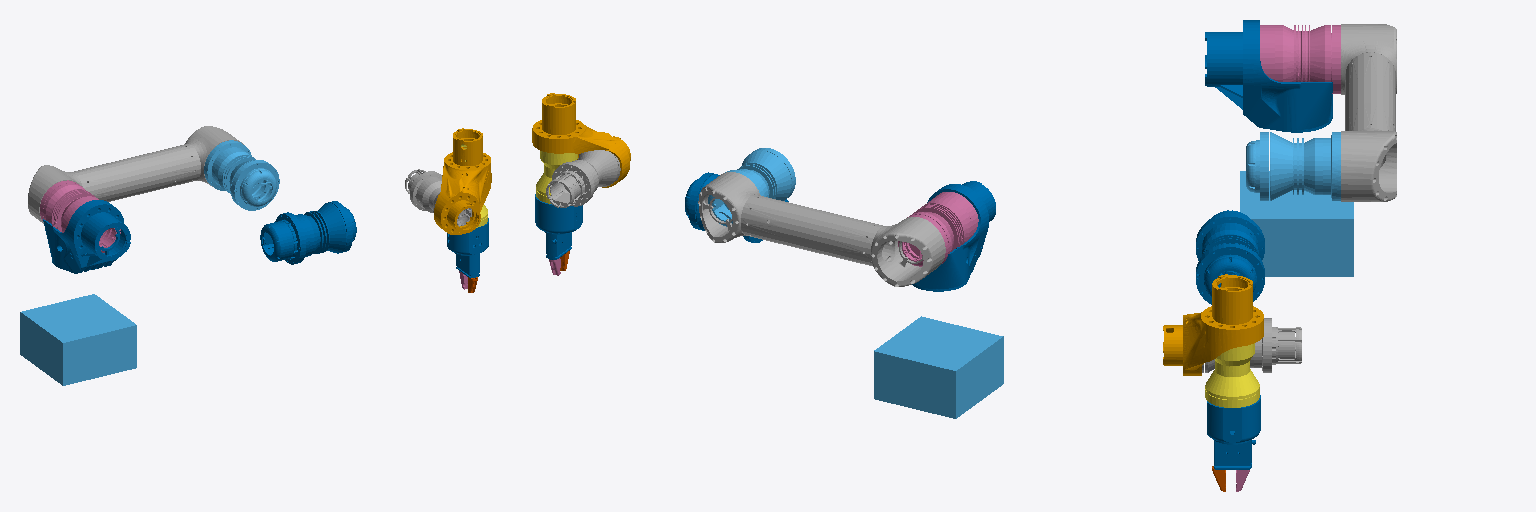
--- Facts derived from the render (not from the file) ---
3 views of the same robot in one strip: view 1: azimuth 30°, elevation 25°; view 2: azimuth 150°, elevation 25°; view 3: azimuth 270°, elevation 25° (orthographic).
Robot: modrob1 — 23 links, 22 joints (6 revolute, 2 prismatic, 14 fixed); root link world; default pose: joints at zero except 1 at the middle of their limits (hand_to_finger2 = 0.035).
Links seen in each view (by area): view 1: part0, link2, link5, proximal_link_of_joint3, link1, proximal_link_of_joint2, proximal_link_of_joint1, hand, proximal_link_of_joint4; view 2: link2, part0, link5, link1, proximal_link_of_joint4, proximal_link_of_joint1, proximal_link_of_joint2, hand, proximal_link_of_joint3, proximal_link_of_joint5; view 3: link2, part0, link1, link5, proximal_link_of_joint2, proximal_link_of_joint3, proximal_link_of_joint1, hand, proximal_link_of_joint5, proximal_link_of_joint4.
Boxes of the visible links, bbox=[...] form: part0: bbox=[20, 294, 136, 385]; link2: bbox=[28, 126, 243, 223]; link5: bbox=[434, 128, 491, 234]; proximal_link_of_joint3: bbox=[260, 201, 356, 264]; link1: bbox=[43, 200, 130, 273]; proximal_link_of_joint2: bbox=[204, 140, 279, 210]; proximal_link_of_joint1: bbox=[40, 180, 120, 252]; hand: bbox=[447, 218, 488, 278]; proximal_link_of_joint4: bbox=[405, 169, 471, 226]; link2: bbox=[698, 172, 945, 286]; part0: bbox=[874, 316, 1003, 418]; link5: bbox=[532, 93, 630, 187]; link1: bbox=[912, 181, 995, 291]; proximal_link_of_joint4: bbox=[546, 150, 620, 207]; proximal_link_of_joint1: bbox=[898, 192, 978, 266]; proximal_link_of_joint2: bbox=[708, 148, 795, 226]; hand: bbox=[535, 194, 582, 259]; proximal_link_of_joint3: bbox=[685, 172, 788, 242]; proximal_link_of_joint5: bbox=[536, 151, 577, 203]; link2: bbox=[1341, 24, 1396, 201]; part0: bbox=[1240, 171, 1353, 276]; link1: bbox=[1205, 20, 1332, 132]; link5: bbox=[1163, 274, 1263, 375]; proximal_link_of_joint2: bbox=[1246, 132, 1340, 200]; proximal_link_of_joint3: bbox=[1196, 210, 1264, 304]; proximal_link_of_joint1: bbox=[1260, 25, 1340, 93]; hand: bbox=[1207, 395, 1260, 469]; proximal_link_of_joint5: bbox=[1205, 343, 1259, 407]; proximal_link_of_joint4: bbox=[1202, 318, 1301, 372].
Bounding box of the posed robot: 1.03 × 0.3706 × 0.3985 m (x, y, z).
Meshes: 12 distinct files referenced, 12 mesh visuals loaded (9 binary STL); not drawn: 3 (reference not matched to a file when rendering).

robot.urdf — modrob1:
<?xml version="1.0"?>
<robot name="modrob1">

	<link name="world"/>

	<gazebo>
		<plugin name="gazebo_ros_control" filename="libgazebo_ros_control.so">
			<robotNamespace>/modrob1</robotNamespace>
			<robotSimType>gazebo_ros_control/DefaultRobotHWSim</robotSimType>
		</plugin>
	</gazebo>

	<link name="part0">
		<visual>
			<origin rpy="0.000000 -0.000000 0.000000" xyz="0.000000 0.000000 0.100000"/>
			<geometry>
				<mesh filename="package://modrob_simulation/stl_files/B_simple.STL"/>
			</geometry>
		</visual>
		<collision>
			<origin rpy="0.000000 -0.000000 0.000000" xyz="0.000000 0.000000 0.100000"/>
			<geometry>
				<mesh filename="package://modrob_simulation/stl_files/B_simple.STL"/>
			</geometry>
		</collision>
	</link>

	<gazebo reference="part0">
		<material>Gazebo/DarkGrey</material>
	</gazebo>

	<gazebo reference="part0">
		<kp>0.000000</kp>
		<kd>0.000000</kd>
		<mu1>0.000000</mu1>
		<mu2>0.000000</mu2>
	</gazebo>

	<link name="distal_link_of_joint0_NV">
		<inertial>
			<origin rpy="0.000000 0.000000 0.000000" xyz="0.000630 0.000190 -0.009660"/>
			<mass value="0.588000"/>
			<inertia ixx="0.000840" ixy="0.000000" ixz="-0.000011" iyy="0.000833" iyz="-0.000001" izz="0.000732"/>
		</inertial>
	</link>

	<gazebo reference="distal_link_of_joint0_NV">
		<material></material>
	</gazebo>

	<gazebo reference="distal_link_of_joint0_NV">
		<kp>0.000000</kp>
		<kd>0.000000</kd>
		<mu1>0.000000</mu1>
		<mu2>0.000000</mu2>
	</gazebo>

	<link name="proximal_link_of_joint0">
		<inertial>
			<origin rpy="0.000000 0.000000 0.000000" xyz="0.000180 0.000130 0.054300"/>
			<mass value="2.795000"/>
			<inertia ixx="0.014000" ixy="-0.000002" ixz="-0.000003" iyy="0.014000" iyz="0.000005" izz="0.000732"/>
		</inertial>
		<visual>
			<origin rpy="0.000000 -0.000000 0.000000" xyz="0.000000 0.000000 0.135300"/>
			<geometry>
				<mesh filename="package://modrob_simulation/stl_files/MXL.STL"/>
			</geometry>
		</visual>
		<collision>
			<origin rpy="0.000000 -0.000000 0.000000" xyz="0.000000 0.000000 0.135300"/>
			<geometry>
				<mesh filename="package://modrob_simulation/stl_files/MXL.STL"/>
			</geometry>
		</collision>
	</link>

	<gazebo reference="proximal_link_of_joint0">
		<material>Gazebo/Blue</material>
	</gazebo>

	<gazebo reference="proximal_link_of_joint0">
		<kp>10000.000000</kp>
		<kd>10.000000</kd>
		<mu1>0.200000</mu1>
		<mu2>0.200000</mu2>
	</gazebo>

	<link name="link1">
		<inertial>
			<origin rpy="0.000000 0.000000 0.000000" xyz="0.000200 -0.036560 0.054520"/>
			<mass value="0.581910"/>
			<inertia ixx="0.004886" ixy="0.000007" ixz="-0.000007" iyy="0.003453" iyz="0.001714" izz="0.000000"/>
		</inertial>
		<visual>
			<origin rpy="2.356194 -1.570796 2.356194" xyz="0.000000 -0.065500 0.100900"/>
			<geometry>
				<mesh filename="package://modrob_simulation/stl_files/L_Rasmus_01_90_LL.STL"/>
			</geometry>
		</visual>
		<collision>
			<origin rpy="2.356194 -1.570796 2.356194" xyz="0.000000 -0.065500 0.100900"/>
			<geometry>
				<mesh filename="package://modrob_simulation/stl_files/L_Rasmus_01_90_LL.STL"/>
			</geometry>
		</collision>
	</link>

	<gazebo reference="link1">
		<material>Gazebo/DarkGrey</material>
	</gazebo>

	<gazebo reference="link1">
		<kp>0.000000</kp>
		<kd>0.000000</kd>
		<mu1>0.000000</mu1>
		<mu2>0.000000</mu2>
	</gazebo>

	<link name="distal_link_of_joint1_NV">
		<inertial>
			<origin rpy="0.000000 0.000000 0.000000" xyz="0.000630 0.000190 -0.009660"/>
			<mass value="0.588000"/>
			<inertia ixx="0.000840" ixy="0.000000" ixz="-0.000011" iyy="0.000833" iyz="-0.000001" izz="0.000732"/>
		</inertial>
	</link>

	<gazebo reference="distal_link_of_joint1_NV">
		<material></material>
	</gazebo>

	<gazebo reference="distal_link_of_joint1_NV">
		<kp>0.000000</kp>
		<kd>0.000000</kd>
		<mu1>0.000000</mu1>
		<mu2>0.000000</mu2>
	</gazebo>

	<link name="proximal_link_of_joint1">
		<inertial>
			<origin rpy="0.000000 0.000000 0.000000" xyz="0.000180 0.000130 0.054300"/>
			<mass value="2.795000"/>
			<inertia ixx="0.014000" ixy="0.000002" ixz="0.000003" iyy="0.014000" iyz="-0.000005" izz="0.000732"/>
		</inertial>
		<visual>
			<origin rpy="3.141593 -3.141593 1.570796" xyz="0.000000 0.000000 0.135300"/>
			<geometry>
				<mesh filename="package://modrob_simulation/stl_files/MXL+90.STL"/>
			</geometry>
		</visual>
		<collision>
			<origin rpy="3.141593 -3.141593 1.570796" xyz="0.000000 0.000000 0.135300"/>
			<geometry>
				<mesh filename="package://modrob_simulation/stl_files/MXL+90.STL"/>
			</geometry>
		</collision>
	</link>

	<gazebo reference="proximal_link_of_joint1">
		<material>Gazebo/Blue</material>
	</gazebo>

	<gazebo reference="proximal_link_of_joint1">
		<kp>10000.000000</kp>
		<kd>10.000000</kd>
		<mu1>0.200000</mu1>
		<mu2>0.200000</mu2>
	</gazebo>

	<link name="link2">
		<inertial>
			<origin rpy="0.000000 0.000000 0.000000" xyz="0.199960 0.000005 0.044435"/>
			<mass value="1.615669"/>
			<inertia ixx="0.005724" ixy="-0.000002" ixz="-0.014380" iyy="0.098655" iyz="-0.000001" izz="0.000000"/>
		</inertial>
		<visual>
			<origin rpy="-0.000000 -3.141593 0.000000" xyz="-0.000000 0.400000 0.000000"/>
			<geometry>
				<mesh filename="package://modrob_simulation/stl_files/L_360_400_LL_actual.STL"/>
			</geometry>
		</visual>
		<collision>
			<origin rpy="-0.000000 -3.141593 0.000000" xyz="-0.000000 0.400000 0.000000"/>
			<geometry>
				<mesh filename="package://modrob_simulation/stl_files/L_360_400_LL_actual.STL"/>
			</geometry>
		</collision>
	</link>

	<gazebo reference="link2">
		<material>Gazebo/DarkGrey</material>
	</gazebo>

	<gazebo reference="link2">
		<kp>0.000000</kp>
		<kd>0.000000</kd>
		<mu1>0.000000</mu1>
		<mu2>0.000000</mu2>
	</gazebo>

	<link name="distal_link_of_joint2_NV">
		<inertial>
			<origin rpy="0.000000 0.000000 0.000000" xyz="-0.000030 0.000010 -0.015900"/>
			<mass value="0.473600"/>
			<inertia ixx="0.000536" ixy="-0.000000" ixz="-0.000000" iyy="0.000536" iyz="0.000000" izz="0.000564"/>
		</inertial>
	</link>

	<gazebo reference="distal_link_of_joint2_NV">
		<material></material>
	</gazebo>

	<gazebo reference="distal_link_of_joint2_NV">
		<kp>0.000000</kp>
		<kd>0.000000</kd>
		<mu1>0.000000</mu1>
		<mu2>0.000000</mu2>
	</gazebo>

	<link name="proximal_link_of_joint2">
		<inertial>
			<origin rpy="0.000000 0.000000 0.000000" xyz="0.000025 0.001030 0.050400"/>
			<mass value="2.139300"/>
			<inertia ixx="0.009000" ixy="0.000002" ixz="-0.000002" iyy="0.008000" iyz="0.000024" izz="0.000564"/>
		</inertial>
		<visual>
			<origin rpy="0.000000 -0.000000 0.000000" xyz="0.000000 0.000000 0.127600"/>
			<geometry>
				<mesh filename="package://modrob_simulation/stl_files/ML.STL"/>
			</geometry>
		</visual>
		<collision>
			<origin rpy="0.000000 -0.000000 0.000000" xyz="0.000000 0.000000 0.127600"/>
			<geometry>
				<mesh filename="package://modrob_simulation/stl_files/ML.STL"/>
			</geometry>
		</collision>
	</link>

	<gazebo reference="proximal_link_of_joint2">
		<material>Gazebo/Blue</material>
	</gazebo>

	<gazebo reference="proximal_link_of_joint2">
		<kp>10000.000000</kp>
		<kd>10.000000</kd>
		<mu1>0.200000</mu1>
		<mu2>0.200000</mu2>
	</gazebo>

	<link name="link3">
		<inertial>
			<origin rpy="0.000000 0.000000 0.000000" xyz="0.060011 0.005268 0.039688"/>
			<mass value="0.578517"/>
			<inertia ixx="0.002063" ixy="-0.000340" ixz="-0.001596" iyy="0.005676" iyz="-0.000134" izz="0.000000"/>
		</inertial>
		<visual>
			<origin rpy="-1.570796 -0.000000 0.000000" xyz="0.114000 0.047000 0.047000"/>
			<geometry>
				<mesh filename="package://modrob_simulation/stl_files/L_90S_compact_LL_actual.STL"/>
			</geometry>
		</visual>
		<collision>
			<origin rpy="-1.570796 -0.000000 0.000000" xyz="0.114000 0.047000 0.047000"/>
			<geometry>
				<mesh filename="package://modrob_simulation/stl_files/L_90S_compact_LL_actual.STL"/>
			</geometry>
		</collision>
	</link>

	<gazebo reference="link3">
		<material>Gazebo/DarkGrey</material>
	</gazebo>

	<gazebo reference="link3">
		<kp>0.000000</kp>
		<kd>0.000000</kd>
		<mu1>0.000000</mu1>
		<mu2>0.000000</mu2>
	</gazebo>

	<link name="distal_link_of_joint3_NV">
		<inertial>
			<origin rpy="0.000000 0.000000 0.000000" xyz="-0.000030 0.000010 -0.015900"/>
			<mass value="0.473600"/>
			<inertia ixx="0.000536" ixy="-0.000000" ixz="-0.000000" iyy="0.000536" iyz="0.000000" izz="0.000564"/>
		</inertial>
	</link>

	<gazebo reference="distal_link_of_joint3_NV">
		<material></material>
	</gazebo>

	<gazebo reference="distal_link_of_joint3_NV">
		<kp>0.000000</kp>
		<kd>0.000000</kd>
		<mu1>0.000000</mu1>
		<mu2>0.000000</mu2>
	</gazebo>

	<link name="proximal_link_of_joint3">
		<inertial>
			<origin rpy="0.000000 0.000000 0.000000" xyz="0.000025 0.001030 0.050400"/>
			<mass value="2.139300"/>
			<inertia ixx="0.009000" ixy="0.000002" ixz="-0.000002" iyy="0.008000" iyz="0.000024" izz="0.000564"/>
		</inertial>
		<visual>
			<origin rpy="0.000000 -0.000000 0.000000" xyz="0.000000 0.000000 0.127600"/>
			<geometry>
				<mesh filename="package://modrob_simulation/stl_files/ML.STL"/>
			</geometry>
		</visual>
		<collision>
			<origin rpy="0.000000 -0.000000 0.000000" xyz="0.000000 0.000000 0.127600"/>
			<geometry>
				<mesh filename="package://modrob_simulation/stl_files/ML.STL"/>
			</geometry>
		</collision>
	</link>

	<gazebo reference="proximal_link_of_joint3">
		<material>Gazebo/Blue</material>
	</gazebo>

	<gazebo reference="proximal_link_of_joint3">
		<kp>10000.000000</kp>
		<kd>10.000000</kd>
		<mu1>0.200000</mu1>
		<mu2>0.200000</mu2>
	</gazebo>

	<link name="link4">
		<inertial>
			<origin rpy="0.000000 0.000000 0.000000" xyz="0.000006 0.091445 0.125960"/>
			<mass value="1.677416"/>
			<inertia ixx="0.107697" ixy="-0.000001" ixz="-0.000003" iyy="0.091364" iyz="-0.034625" izz="0.000000"/>
		</inertial>
		<visual>
			<origin rpy="1.570796 -0.000000 0.000000" xyz="0.000000 0.065000 0.250000"/>
			<geometry>
				<mesh filename="package://modrob_simulation/stl_files/L_90L_250_LS_actual.STL"/>
			</geometry>
		</visual>
		<collision>
			<origin rpy="1.570796 -0.000000 0.000000" xyz="0.000000 0.065000 0.250000"/>
			<geometry>
				<mesh filename="package://modrob_simulation/stl_files/L_90L_250_LS_actual.STL"/>
			</geometry>
		</collision>
	</link>

	<gazebo reference="link4">
		<material>Gazebo/DarkGrey</material>
	</gazebo>

	<gazebo reference="link4">
		<kp>0.000000</kp>
		<kd>0.000000</kd>
		<mu1>0.000000</mu1>
		<mu2>0.000000</mu2>
	</gazebo>

	<link name="distal_link_of_joint4_NV">
		<inertial>
			<origin rpy="0.000000 0.000000 0.000000" xyz="-0.000044 -0.000008 -0.001115"/>
			<mass value="0.289400"/>
			<inertia ixx="0.000178" ixy="-0.000000" ixz="-0.000000" iyy="0.000178" iyz="0.000000" izz="0.000192"/>
		</inertial>
	</link>

	<gazebo reference="distal_link_of_joint4_NV">
		<material></material>
	</gazebo>

	<gazebo reference="distal_link_of_joint4_NV">
		<kp>0.000000</kp>
		<kd>0.000000</kd>
		<mu1>0.000000</mu1>
		<mu2>0.000000</mu2>
	</gazebo>

	<link name="proximal_link_of_joint4">
		<inertial>
			<origin rpy="0.000000 0.000000 0.000000" xyz="0.000610 0.000080 0.047140"/>
			<mass value="1.253380"/>
			<inertia ixx="0.004000" ixy="0.000000" ixz="0.000016" iyy="0.005000" iyz="-0.000000" izz="0.000192"/>
		</inertial>
		<visual>
			<origin rpy="0.000000 -0.000000 0.000000" xyz="0.000000 0.000000 0.119550"/>
			<geometry>
				<mesh filename="package://modrob_simulation/stl_files/MS.STL"/>
			</geometry>
		</visual>
		<collision>
			<origin rpy="0.000000 -0.000000 0.000000" xyz="0.000000 0.000000 0.119550"/>
			<geometry>
				<mesh filename="package://modrob_simulation/stl_files/MS.STL"/>
			</geometry>
		</collision>
	</link>

	<gazebo reference="proximal_link_of_joint4">
		<material>Gazebo/Blue</material>
	</gazebo>

	<gazebo reference="proximal_link_of_joint4">
		<kp>10000.000000</kp>
		<kd>10.000000</kd>
		<mu1>0.200000</mu1>
		<mu2>0.200000</mu2>
	</gazebo>

	<link name="link5">
		<inertial>
			<origin rpy="0.000000 0.000000 0.000000" xyz="-0.043600 0.035200 -0.023740"/>
			<mass value="0.337890"/>
			<inertia ixx="0.001553" ixy="0.000777" ixz="-0.000685" iyy="0.001824" iyz="0.000526" izz="0.000000"/>
		</inertial>
		<visual>
			<origin rpy="1.570796 3.141593 1.570796" xyz="-0.060000 0.063000 -0.058000"/>
			<geometry>
				<mesh filename="package://modrob_simulation/stl_files/L_Rasmus_02_90_SS.STL"/>
			</geometry>
		</visual>
		<collision>
			<origin rpy="1.570796 3.141593 1.570796" xyz="-0.060000 0.063000 -0.058000"/>
			<geometry>
				<mesh filename="package://modrob_simulation/stl_files/L_Rasmus_02_90_SS.STL"/>
			</geometry>
		</collision>
	</link>

	<gazebo reference="link5">
		<material>Gazebo/DarkGrey</material>
	</gazebo>

	<gazebo reference="link5">
		<kp>0.000000</kp>
		<kd>0.000000</kd>
		<mu1>0.000000</mu1>
		<mu2>0.000000</mu2>
	</gazebo>

	<link name="tool_dummy">
		<inertial>
			<origin rpy="0.000000 0.000000 0.000000" xyz="0.000610 0.000080 0.047140"/>
			<mass value="0.000000"/>
			<inertia ixx="0.000000" ixy="0.000000" ixz="0.000000" iyy="0.000000" iyz="0.000000" izz="0.000000"/>
		</inertial>
	</link>

	<gazebo reference="tool_dummy">
		<material></material>
	</gazebo>

	<gazebo reference="tool_dummy">
		<kp>0.000000</kp>
		<kd>0.000000</kd>
		<mu1>0.000000</mu1>
		<mu2>0.000000</mu2>
	</gazebo>

	<link name="distal_link_of_joint5_NV">
		<inertial>
			<origin rpy="0.000000 0.000000 0.000000" xyz="-0.000044 -0.000008 -0.001115"/>
			<mass value="0.289400"/>
			<inertia ixx="0.000178" ixy="-0.000000" ixz="-0.000000" iyy="0.000178" iyz="0.000000" izz="0.000192"/>
		</inertial>
	</link>

	<gazebo reference="distal_link_of_joint5_NV">
		<material></material>
	</gazebo>

	<gazebo reference="distal_link_of_joint5_NV">
		<kp>0.000000</kp>
		<kd>0.000000</kd>
		<mu1>0.000000</mu1>
		<mu2>0.000000</mu2>
	</gazebo>

	<link name="proximal_link_of_joint5">
		<inertial>
			<origin rpy="0.000000 0.000000 0.000000" xyz="0.000610 0.000080 0.047140"/>
			<mass value="1.253380"/>
			<inertia ixx="0.004000" ixy="0.000000" ixz="0.000016" iyy="0.005000" iyz="-0.000000" izz="0.000192"/>
		</inertial>
		<visual>
			<origin rpy="0.000000 -0.000000 0.000000" xyz="0.000000 0.000000 0.119550"/>
			<geometry>
				<mesh filename="package://modrob_simulation/stl_files/MS.STL"/>
			</geometry>
		</visual>
		<collision>
			<origin rpy="0.000000 -0.000000 0.000000" xyz="0.000000 0.000000 0.119550"/>
			<geometry>
				<mesh filename="package://modrob_simulation/stl_files/MS.STL"/>
			</geometry>
		</collision>
	</link>

	<gazebo reference="proximal_link_of_joint5">
		<material>Gazebo/Blue</material>
	</gazebo>

	<gazebo reference="proximal_link_of_joint5">
		<kp>10000.000000</kp>
		<kd>10.000000</kd>
		<mu1>0.200000</mu1>
		<mu2>0.200000</mu2>
	</gazebo>


	<link name="hand">
		<inertial>
			<origin rpy="0.000000 0.000000 0.000000" xyz="0.000000 0.000000 0.06250"/>
			<mass value="0.184000"/>
			<inertia ixx="0.550000" ixy="-0.000002" ixz="-0.000003" iyy="0.930000" iyz="0.000005" izz="0.550000"/>
		</inertial>
		<visual>
			<origin rpy="0.000000 -0.000000 0.000000" xyz="0.000000 0.000000 0.06250"/>
		<geometry>
				<mesh filename="package://modrob_simulation/stl_files/E_Schimaneck.STL"/>
			</geometry>
		</visual>
		<collision>
			<origin rpy="0.000000 -0.000000 0.000000" xyz="0.000000 0.000000 0.062500"/>
			<geometry>
				<mesh filename="package://modrob_simulation/stl_files/E_Schimaneck.STL"/>
			</geometry>
			</collision>
	</link>

	<gazebo reference="hand">
		<material>Gazebo/DarkGrey</material>
	</gazebo>

	<gazebo reference="hand">
		<kp>0.000000</kp>
		<kd>0.000000</kd>
		<mu1>0.000000</mu1>
		<mu2>0.000000</mu2>
	</gazebo>

	<link name="finger1">
		<inertial>
			<origin rpy="0.00000 0.000000 0.0" xyz="0.0 -0.000 0.001500"/>
			<mass value="0.006944"/>
			<inertia ixx="0.000004629" ixy="0.000000486" ixz="0.000000972" iyy="0.000004157" iyz="0.000001389" izz="0.00000138"/>
		</inertial>
		<visual>
			<origin rpy="0.000000 0.000000 0.0" xyz="0.0 -0.000 0.001500"/>
			<geometry>
				<mesh filename="package://modrob_simulation/stl_files/finger_Birne_Gimatic_m.STL"/>
			</geometry>
		</visual>
		<collision>
			<origin rpy="0.000000 0.000000 0.0" xyz="0.0 -0.000 0.001500"/>
			<geometry>
				<mesh filename="package://modrob_simulation/stl_files/finger_Birne_Gimatic_m.STL"/>
			</geometry>
		</collision>
	</link>

	<gazebo reference="finger1">
		<material>Gazebo/Blue</material>
	</gazebo>

	<gazebo reference="finger1">
		<kp>110.000000</kp>
		<kd>10.000000</kd>
		<mu1>100.00</mu1> <!-- was 0.38-->
		<mu2>100.00</mu2>
	</gazebo>

	<link name="finger2">
		<inertial>
			<origin rpy="0.00000 0.000000 0.0" xyz="0.000 0.00 0.001500"/>
			<mass value="0.006944"/>
			<inertia ixx="0.000004629" ixy="0.000000486" ixz="0.000000972" iyy="0.000004157" iyz="0.000001389" izz="0.00000138"/>
		</inertial>
		<visual>
			<origin rpy="0.000000 0.000000 0.0" xyz="0.000 0.00 0.001500"/>
			<geometry>
				<mesh filename="package://modrob_simulation/stl_files/finger_Birne_Gimatic_m.STL"/>
			</geometry>
		</visual>
		<collision>
			<origin rpy="0.000000 0.000000 0.0" xyz="0.000 0.00 0.001500"/>
			<geometry>
				<mesh filename="package://modrob_simulation/stl_files/finger_Birne_Gimatic_m.STL"/>
			</geometry>
		</collision>
	</link>

	<gazebo reference="finger2">
		<material>Gazebo/Blue</material>
	</gazebo>

	<gazebo reference="finger1">
		<kp>110.000000</kp>
		<kd>10.000000</kd>
		<mu1>100.00</mu1> <!-- was 0.38 -->
		<mu2>100.00</mu2>
	</gazebo>

	<joint name="fixed" type="fixed">
		<parent link="world"/>
		<child link="part0"/>
	</joint>
	<joint name="part0_joint0" type="fixed">
		<origin xyz="0.000000 0.000000 0.100000" rpy="0.000000 -0.000000 0.000000"/>
		<parent link="part0"/>
		<child link="proximal_link_of_joint0"/>
		<axis xyz="0.000000 0.000000 0.000000"/>
		<dynamics damping="0.000000" friction="0.000000"/>
	</joint>

	<joint name="joint0_link1" type="fixed">
		<origin xyz="0.000000 0.000000 0.067650" rpy="0.000000 -0.000000 0.000000"/>
		<parent link="distal_link_of_joint0_NV"/>
		<child link="link1"/>
		<axis xyz="0.000000 0.000000 0.000000"/>
		<dynamics damping="0.000000" friction="0.000000"/>
	</joint>

	<joint name="joint0" type="revolute">
		<origin xyz="0.000000 0.000000 0.067650" rpy="0.000000 -0.000000 0.000000"/>
		<parent link="proximal_link_of_joint0"/>
		<child link="distal_link_of_joint0_NV"/>
		<axis xyz="0.000000 0.000000 1.000000"/>
		<dynamics damping="51.459999" friction="36.560001"/>
		<limit effort="205.919998" velocity="1.890000" lower="-3.141593" upper="3.141593"/>
		<sensor name="force_torque_joint0" type="force_torque">
			<update_rate>100</update_rate>
		</sensor>
	</joint>

	<transmission name="trans0">
		<type>transmission_interface/SimpleTransmission</type>
		<joint name="joint0">
			<hardwareInterface>hardware_interface/EffortJointInterface</hardwareInterface>
		</joint>
		<actuator name="motor0">
			<hardwareInterface>hardware_interface/EffortJointInterface</hardwareInterface>
			<mechanicalReduction>160.000000</mechanicalReduction>
		</actuator>
	</transmission>

	<joint name="link1_joint1" type="fixed">
		<origin xyz="0.000000 -0.065500 0.100900" rpy="2.356194 -1.570796 2.356194"/>
		<parent link="link1"/>
		<child link="proximal_link_of_joint1"/>
		<axis xyz="0.000000 0.000000 0.000000"/>
		<dynamics damping="0.000000" friction="0.000000"/>
	</joint>

	<joint name="joint1_link2" type="fixed">
		<origin xyz="0.000000 0.000000 0.067650" rpy="3.141593 -3.141593 0.000000"/>
		<parent link="distal_link_of_joint1_NV"/>
		<child link="link2"/>
		<axis xyz="0.000000 0.000000 0.000000"/>
		<dynamics damping="0.000000" friction="0.000000"/>
	</joint>

	<joint name="joint1" type="revolute">
		<origin xyz="0.000000 0.000000 0.067650" rpy="3.141593 -3.141593 0.0"/>
		<parent link="proximal_link_of_joint1"/>
		<child link="distal_link_of_joint1_NV"/>
		<axis xyz="0.000000 0.000000 1.000000"/>
		<dynamics damping="51.459999" friction="36.560001"/>
		<limit effort="205.919998" velocity="0.800000" lower="-3.141593" upper="3.141593"/>
		<sensor name="force_torque_joint1" type="force_torque">
			<update_rate>100</update_rate>
		</sensor>
	</joint>

	<transmission name="trans1">
		<type>transmission_interface/SimpleTransmission</type>
		<joint name="joint1">
			<hardwareInterface>hardware_interface/EffortJointInterface</hardwareInterface>
		</joint>
		<actuator name="motor1">
			<hardwareInterface>hardware_interface/EffortJointInterface</hardwareInterface>
			<mechanicalReduction>160.000000</mechanicalReduction>
		</actuator>
	</transmission>

	<joint name="link2_joint2" type="fixed">
		<origin xyz="-0.000000 0.400000 0.000000" rpy="-0.000000 -3.141593 0.000000"/>
		<parent link="link2"/>
		<child link="proximal_link_of_joint2"/>
		<axis xyz="0.000000 0.000000 0.000000"/>
		<dynamics damping="0.000000" friction="0.000000"/>
	</joint>

	<joint name="joint2_link3" type="fixed">
		<origin xyz="0.000000 0.000000 0.063800" rpy="0.000000 -0.000000 0.000000"/>
		<parent link="distal_link_of_joint2_NV"/>
		<child link="link3"/>
		<axis xyz="0.000000 0.000000 0.000000"/>
		<dynamics damping="0.000000" friction="0.000000"/>
	</joint>

	<joint name="joint2" type="revolute">
		<origin xyz="0.000000 0.000000 0.063800" rpy="0.000000 -0.000000 0.000000"/>
		<parent link="proximal_link_of_joint2"/>
		<child link="distal_link_of_joint2_NV"/>
		<axis xyz="0.000000 0.000000 1.000000"/>
		<dynamics damping="12.590000" friction="18.400000"/>
		<limit effort="106.559998" velocity="2.350000" lower="-3.141593" upper="3.141593"/>
		<sensor name="force_torque_joint2" type="force_torque">
			<update_rate>100</update_rate>
		</sensor>
	</joint>

	<transmission name="trans2">
		<type>transmission_interface/SimpleTransmission</type>
		<joint name="joint2">
			<hardwareInterface>hardware_interface/EffortJointInterface</hardwareInterface>
		</joint>
		<actuator name="motor2">
			<hardwareInterface>hardware_interface/EffortJointInterface</hardwareInterface>
			<mechanicalReduction>160.000000</mechanicalReduction>
		</actuator>
	</transmission>

	<joint name="link3_joint3" type="fixed">
		<origin xyz="0.114000 0.047000 0.047000" rpy="-1.570796 -0.000000 0.000000"/>
		<parent link="link3"/>
		<child link="proximal_link_of_joint3"/>
		<axis xyz="0.000000 0.000000 0.000000"/>
		<dynamics damping="0.000000" friction="0.000000"/>
	</joint>

	<joint name="joint3_link4" type="fixed">
		<origin xyz="0.000000 0.000000 0.063800" rpy="0.000000 -0.000000 0.000000"/>
		<parent link="distal_link_of_joint3_NV"/>
		<child link="link4"/>
		<axis xyz="0.000000 0.000000 0.000000"/>
		<dynamics damping="0.000000" friction="0.000000"/>
	</joint>

	<joint name="joint3" type="revolute">
		<origin xyz="0.000000 0.000000 0.063800" rpy="0.000000 -0.000000 0.000000"/>
		<parent link="proximal_link_of_joint3"/>
		<child link="distal_link_of_joint3_NV"/>
		<axis xyz="0.000000 0.000000 1.000000"/>
		<dynamics damping="12.590000" friction="18.400000"/>
		<limit effort="106.559998" velocity="2.350000" lower="-3.141593" upper="3.141593"/>
		<sensor name="force_torque_joint3" type="force_torque">
			<update_rate>100</update_rate>
		</sensor>
	</joint>

	<transmission name="trans3">
		<type>transmission_interface/SimpleTransmission</type>
		<joint name="joint3">
			<hardwareInterface>hardware_interface/EffortJointInterface</hardwareInterface>
		</joint>
		<actuator name="motor3">
			<hardwareInterface>hardware_interface/EffortJointInterface</hardwareInterface>
			<mechanicalReduction>160.000000</mechanicalReduction>
		</actuator>
	</transmission>

	<joint name="link4_joint4" type="fixed">
		<origin xyz="0.000000 0.065000 0.250000" rpy="1.570796 -0.000000 0.000000"/>
		<parent link="link4"/>
		<child link="proximal_link_of_joint4"/>
		<axis xyz="0.000000 0.000000 0.000000"/>
		<dynamics damping="0.000000" friction="0.000000"/>
	</joint>

	<joint name="joint4_link5" type="fixed">
		<origin xyz="0.000000 0.000000 0.059775" rpy="0.000000 -0.000000 0.000000"/>
		<parent link="distal_link_of_joint4_NV"/>
		<child link="link5"/>
		<axis xyz="0.000000 0.000000 0.000000"/>
		<dynamics damping="0.000000" friction="0.000000"/>
	</joint>

	<joint name="joint4" type="revolute">
		<origin xyz="0.000000 0.000000 0.059775" rpy="0.000000 -0.000000 0.000000"/>
		<parent link="proximal_link_of_joint4"/>
		<child link="distal_link_of_joint4_NV"/>
		<axis xyz="0.000000 0.000000 1.000000"/>
		<dynamics damping="13.170000" friction="6.019000"/>
		<limit effort="54.000000" velocity="3.050000" lower="-3.141593" upper="3.141593"/>
		<sensor name="force_torque_joint4" type="force_torque">
			<update_rate>100</update_rate>
		</sensor>
	</joint>

	<transmission name="trans4">
		<type>transmission_interface/SimpleTransmission</type>
		<joint name="joint4">
			<hardwareInterface>hardware_interface/EffortJointInterface</hardwareInterface>
		</joint>
		<actuator name="motor4">
			<hardwareInterface>hardware_interface/EffortJointInterface</hardwareInterface>
			<mechanicalReduction>120.000000</mechanicalReduction>
		</actuator>
	</transmission>

	<joint name="link5_joint5" type="fixed">
		<origin xyz="-0.060000 0.063000 -0.058000" rpy="1.570796 3.141593 1.570796"/>
		<parent link="link5"/>
		<child link="proximal_link_of_joint5"/>
		<axis xyz="0.000000 0.000000 0.000000"/>
		<dynamics damping="0.000000" friction="0.000000"/>
	</joint>

	<joint name="joint5_tool_dummy" type="fixed">
		<origin xyz="0.000000 0.000000 0.119550" rpy="0.000000 -0.000000 0.000000"/>
		<parent link="distal_link_of_joint5_NV"/>
		<child link="tool_dummy"/>
		<axis xyz="0.000000 0.000000 0.000000"/>
		<dynamics damping="0.000000" friction="0.000000"/>
	</joint>

	<joint name="joint5" type="revolute">
		<origin xyz="0.000000 0.000000 0.059775" rpy="0.000000 -0.000000 0.000000"/>
		<parent link="proximal_link_of_joint5"/>
		<child link="distal_link_of_joint5_NV"/>
		<axis xyz="0.000000 0.000000 1.000000"/>
		<dynamics damping="13.170000" friction="6.019000"/>
		<limit effort="54.000000" velocity="3.050000" lower="-3.141593" upper="3.141593"/>
		<sensor name="force_torque_joint5" type="force_torque">
			<update_rate>100</update_rate>
		</sensor>
	</joint>

	<transmission name="trans5">
		<type>transmission_interface/SimpleTransmission</type>
		<joint name="joint5">
			<hardwareInterface>hardware_interface/EffortJointInterface</hardwareInterface>
		</joint>
		<actuator name="motor5">
			<hardwareInterface>hardware_interface/EffortJointInterface</hardwareInterface>
			<mechanicalReduction>120.000000</mechanicalReduction>
		</actuator>
	</transmission>


	<joint name="fixed_gripper_to_arm_link" type="fixed">
		<origin rpy="0.000000 0.000000 0.000000" xyz="0.000000 0.000000 0.000000"/>
		<parent link="tool_dummy"/>
		<child link="hand"/>
	</joint>

	<joint name="hand_to_finger1" type="prismatic">
		<origin rpy="0.000000 0.000000 +1.570796327" xyz="0.00700 -0.03200 0.06200"/>
		<parent link="hand"/>
		<child link="finger1"/>
		<dynamics damping="12.590000" friction="0.400000"/>
		<limit effort="3.0" lower="-0.0" upper="0.0100" velocity="0.5"/> <!-- was 0.38 and 0.0 -->
	</joint>

	<joint name="hand_to_finger2" type="prismatic">
		<origin rpy="0.000000 0.000000 -1.570796327" xyz="-0.00700 0.0620 0.06200"/>
		<parent link="hand"/>
		<child link="finger2"/>
		<dynamics damping="12.590000" friction="0.400000"/>
		<limit effort="3.0" lower="0.03" upper="0.04" velocity="0.5"/>
	</joint>

	<transmission name="trans_hand_to_finger1">
		<type>transmission_interface/SimpleTransmission</type>
		<joint name="hand_to_finger1">
			<hardwareInterface>hardware_interface/EffortJointInterface</hardwareInterface>
		</joint>
		<actuator name="motor_hand_to_finger1">
			<hardwareInterface>hardware_interface/EffortJointInterface</hardwareInterface>
			<mechanicalReduction>160</mechanicalReduction>
		</actuator>
	</transmission>

	<transmission name="trans_hand_to_finger2">
		<type>transmission_interface/SimpleTransmission</type>
		<joint name="hand_to_finger2">
			<hardwareInterface>hardware_interface/EffortJointInterface</hardwareInterface>
		</joint>
		<actuator name="motor_hand_to_finger2">
			<hardwareInterface>hardware_interface/EffortJointInterface</hardwareInterface>
			<mechanicalReduction>160</mechanicalReduction>
		</actuator>
	</transmission>

</robot>
